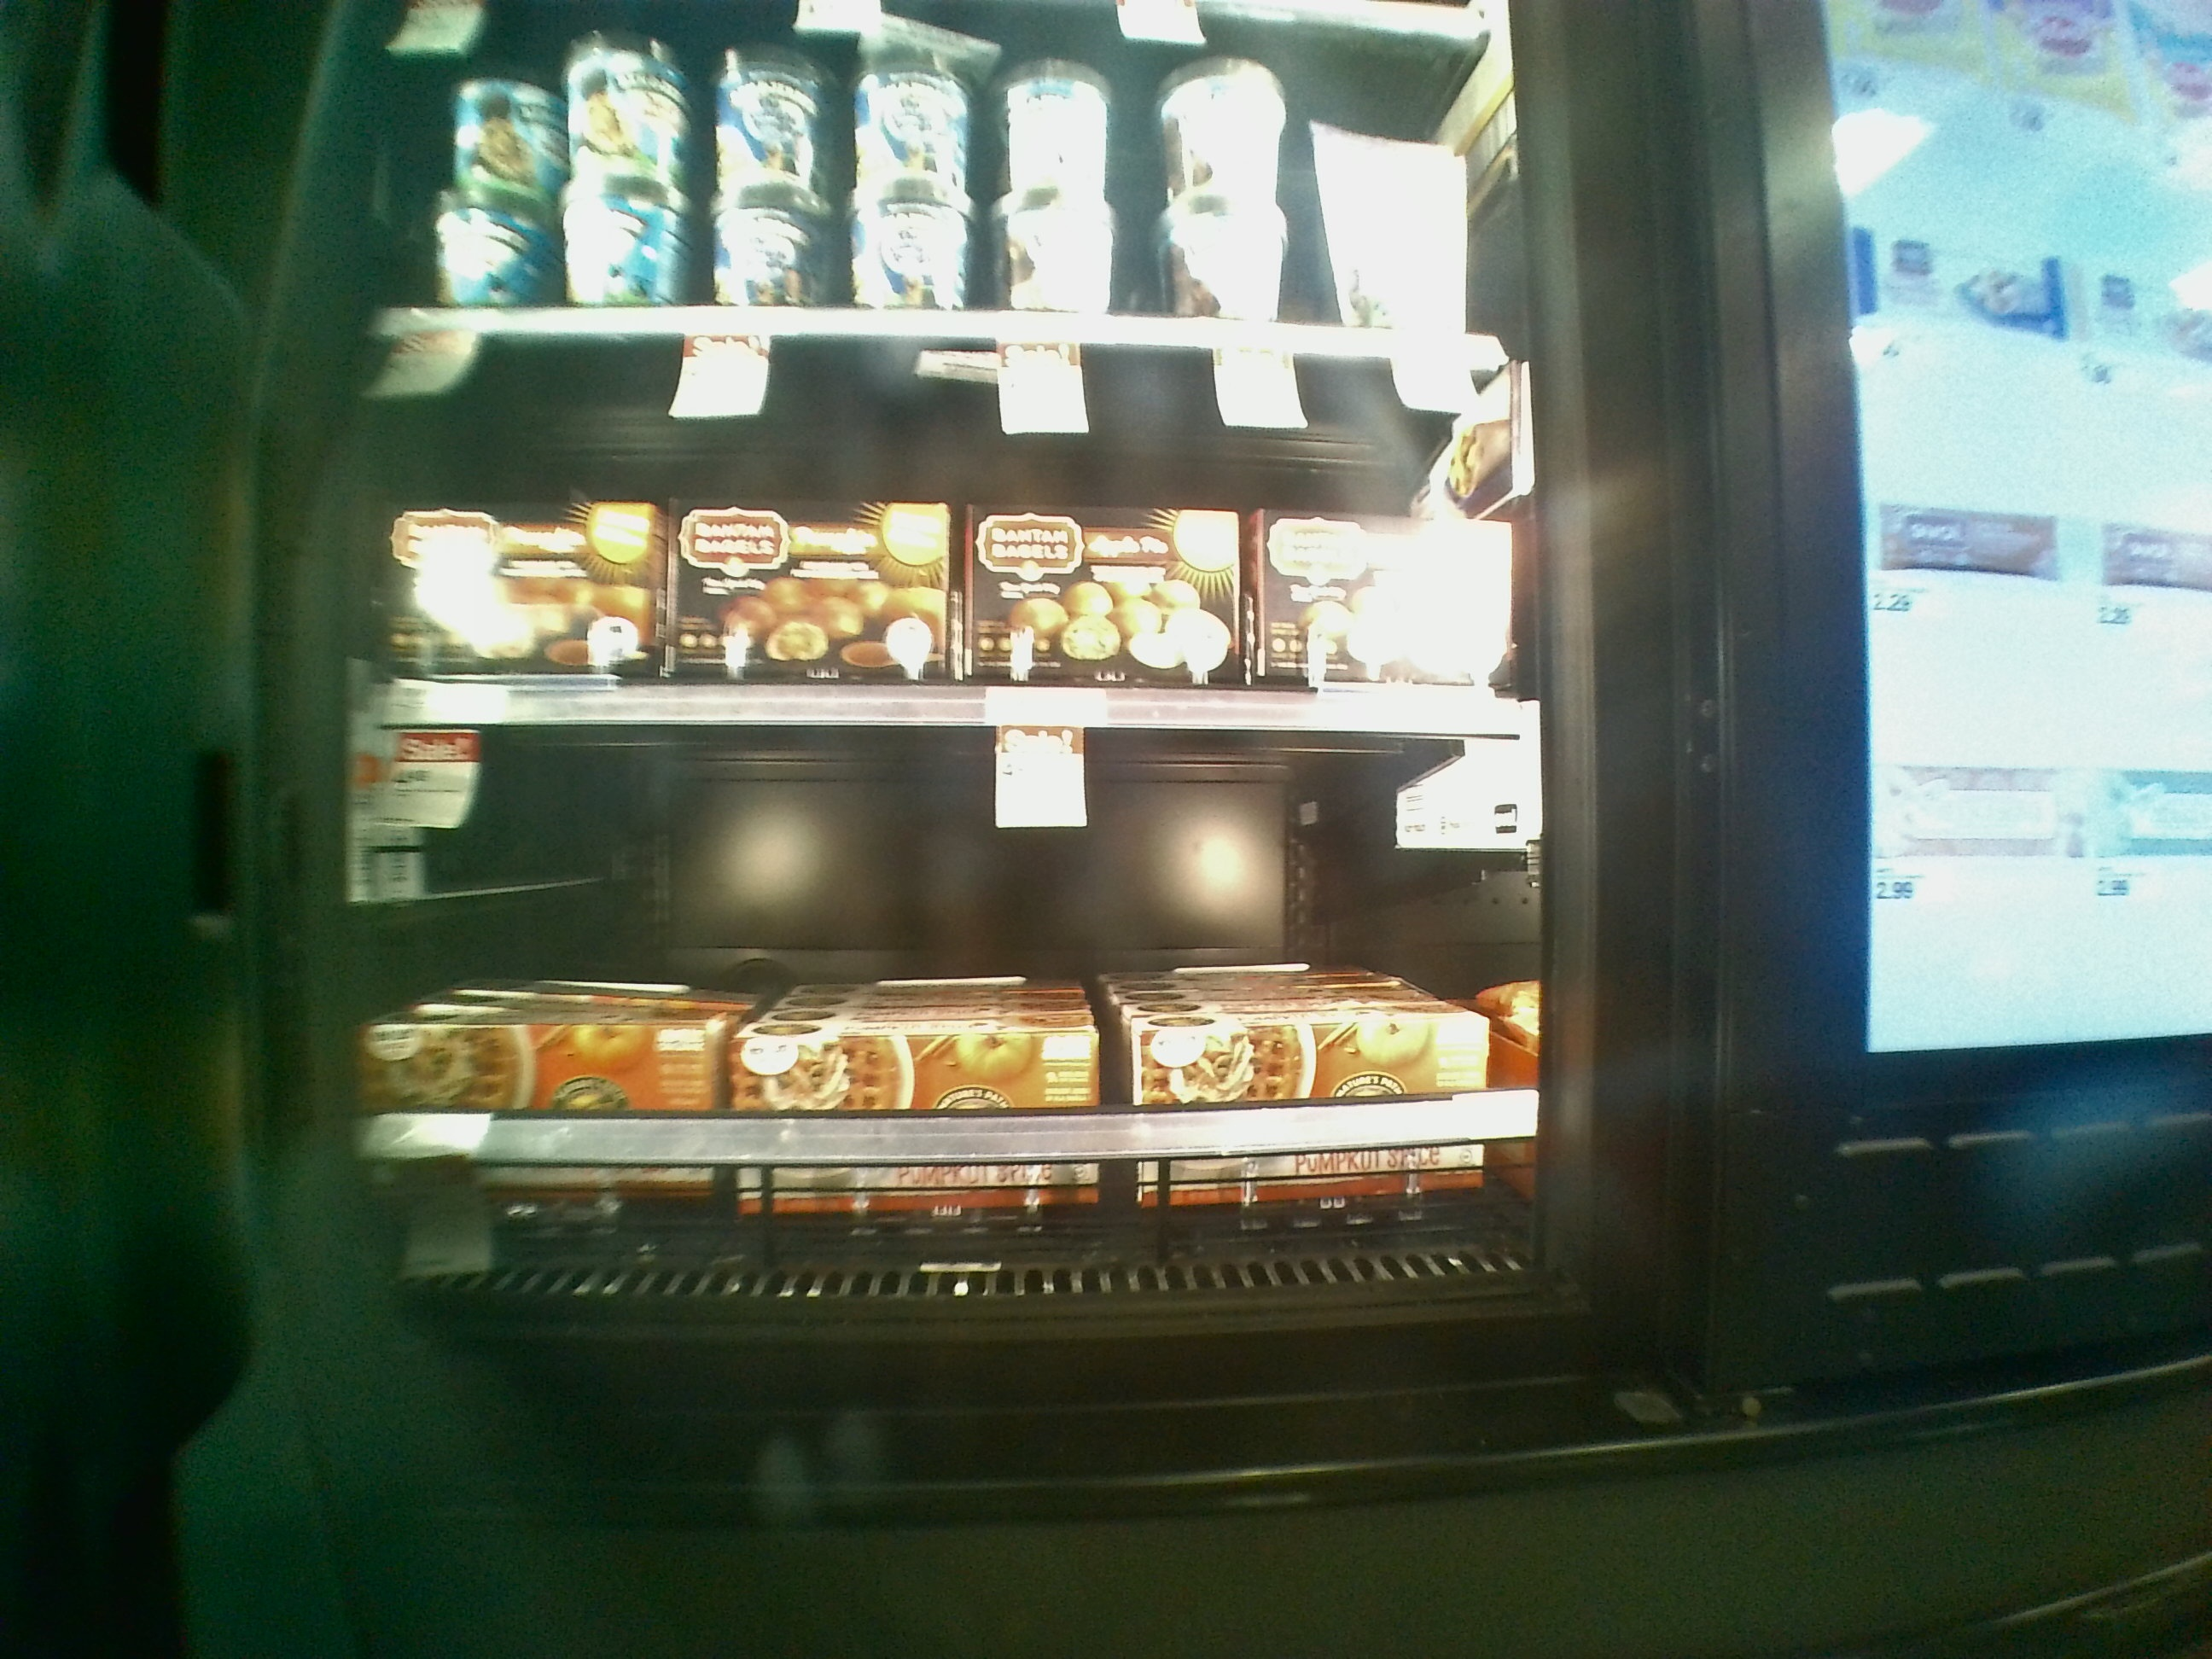shelf: (319, 716, 1531, 1316), (333, 326, 1541, 748)
